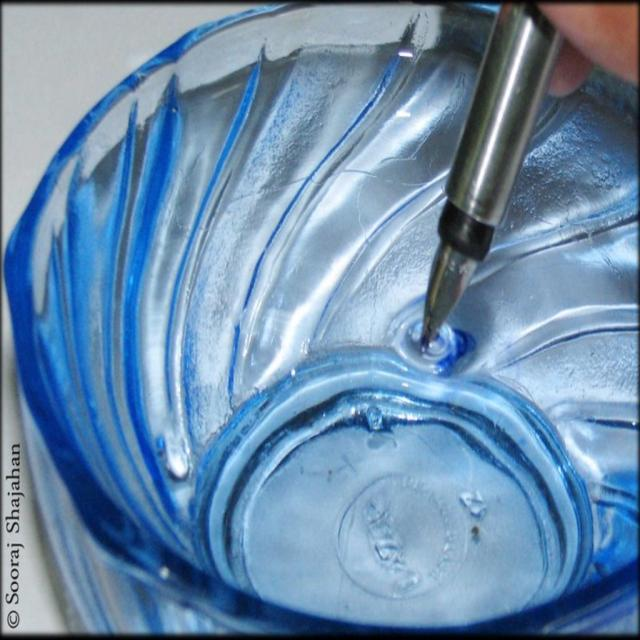pen: (424, 0, 567, 354)
